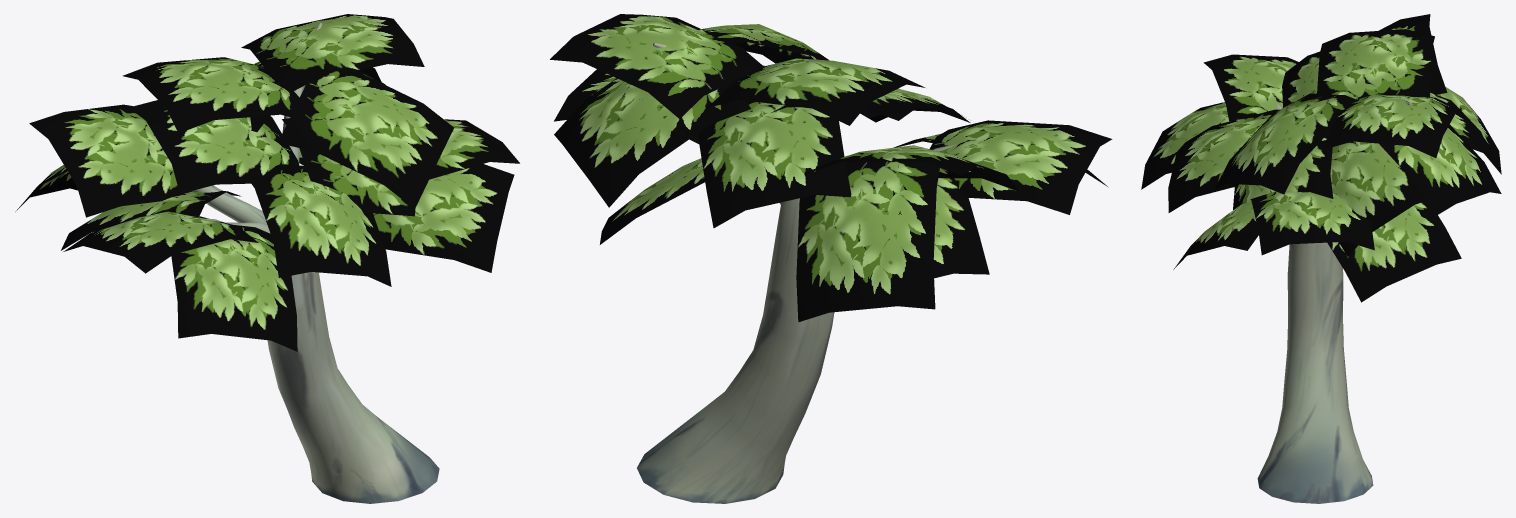
The model's file is Tree2 Test2.FBX.
3 renders of one model, left to right at view 1: azimuth 30°, elevation 25°; view 2: azimuth 150°, elevation 25°; view 3: azimuth 270°, elevation 25°, orthographic. The views are drawn at different scales.
Parts seen in each view (by area): view 1: Cylinder002; view 2: Cylinder002; view 3: Cylinder002.
Boxes of the visible parts, bbox=[...] form: Cylinder002: bbox=[15, 14, 519, 503]; Cylinder002: bbox=[550, 14, 1112, 503]; Cylinder002: bbox=[1141, 14, 1501, 503].
Size of the model in its own units: 256 by 239 by 204.
Materials: 1 (1 with a texture image).
